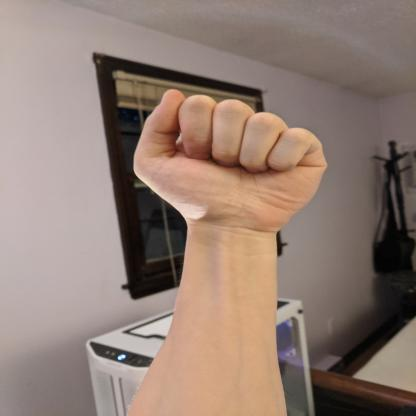A: (128, 85, 334, 244)
